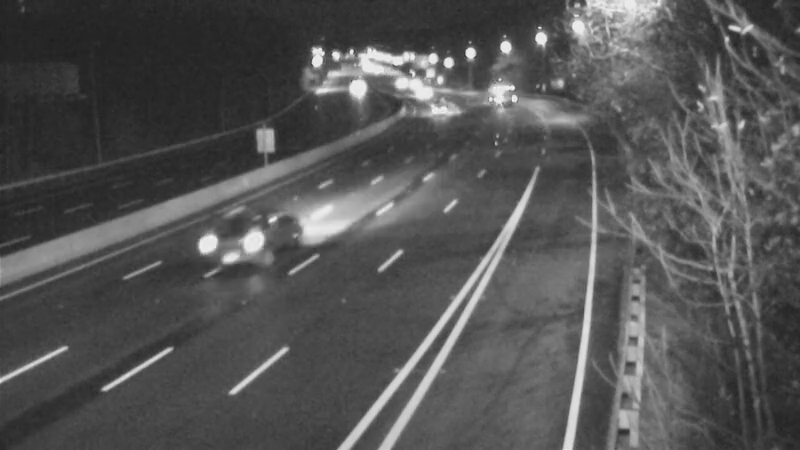vehicle: (187, 205, 267, 285), (473, 71, 523, 121), (396, 64, 446, 114), (416, 88, 466, 138), (331, 67, 381, 117)
